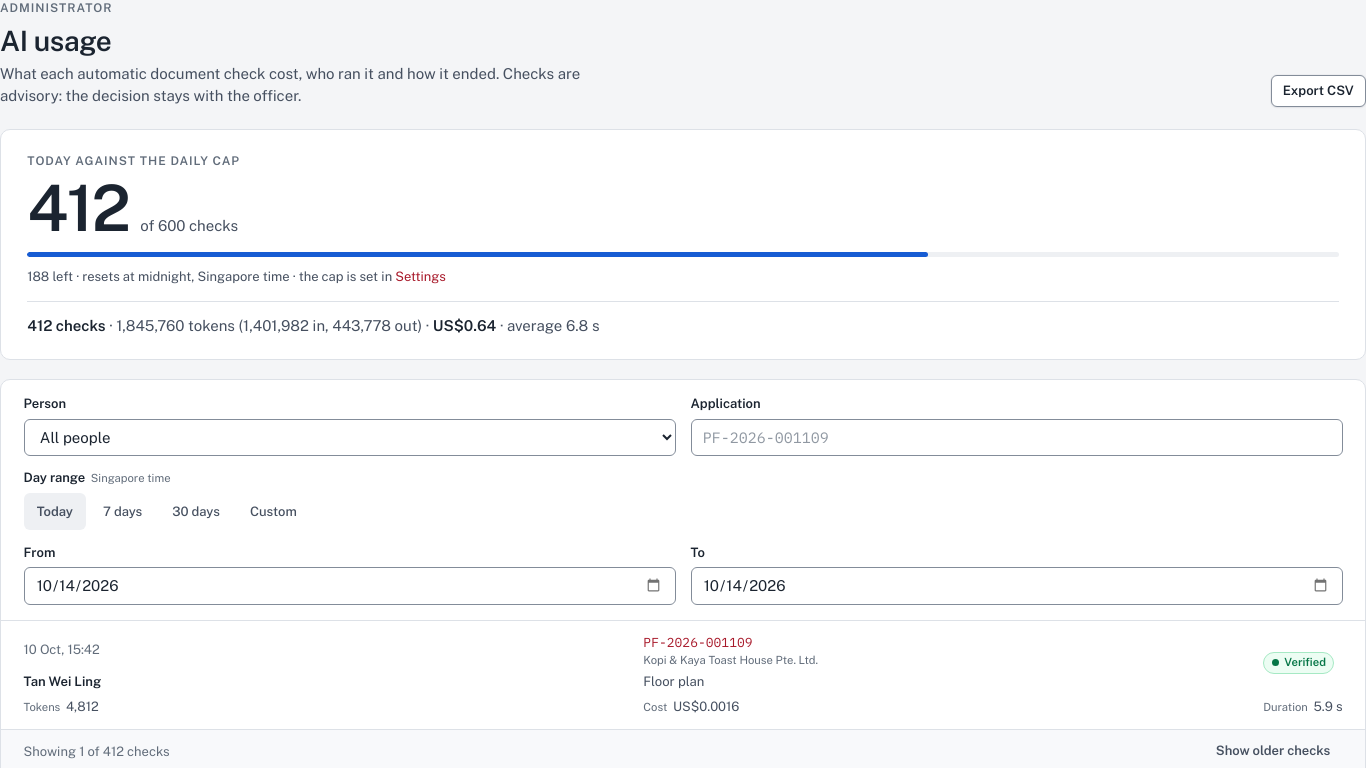
Test: AI usage (US-100) › pages older checks with the cursor
The image size is (1366, 768).
Click the button "Show older checks" at (1273, 752), box [1204,736,1342,767]
(page scrolled)
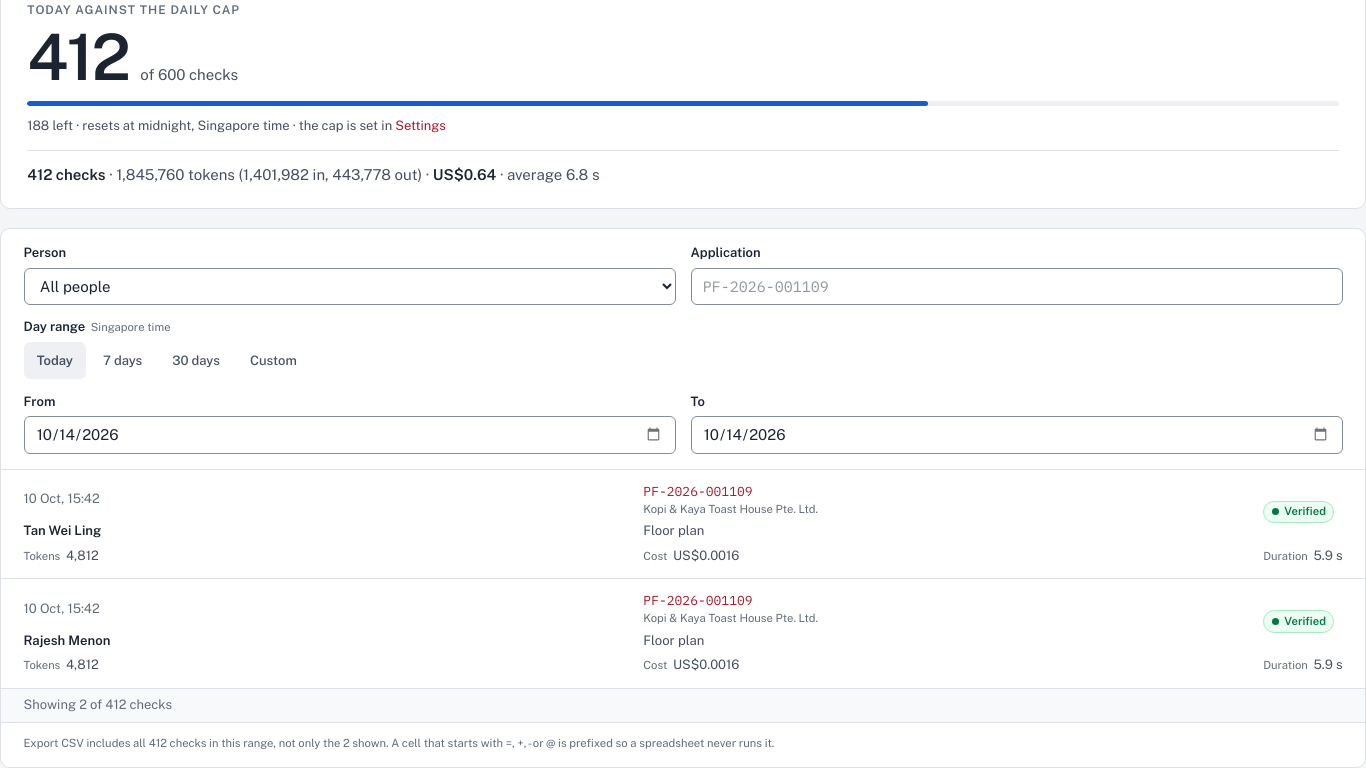
Expected: the text "Rajesh Menon" is shown, [24,633,110,648]
Expected: the text "Showing 2 of 412 checks" is shown, [24,694,172,716]
Expected: the button "Show older checks" is gone
